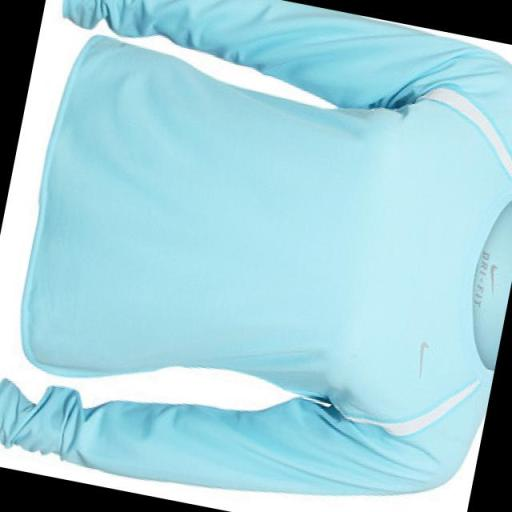Nike: (411, 334, 434, 383)
